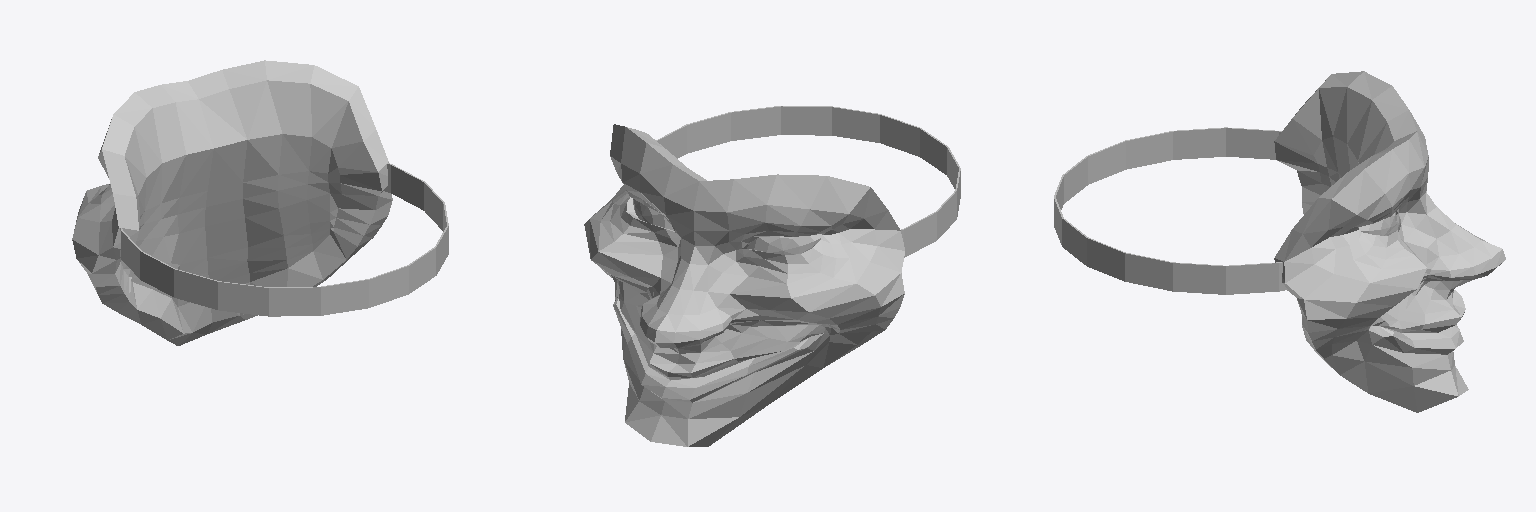
File: trollmask.obj
The picture shows the model from 3 angles: view 1: azimuth 30°, elevation 25°; view 2: azimuth 150°, elevation 25°; view 3: azimuth 270°, elevation 25°; orthographic projection.
Visible parts, largest first — view 1: trollmask; view 2: trollmask; view 3: trollmask.
Boxes of the visible parts, box(x1,y1,x2,y2) form: trollmask: box(72, 60, 448, 345); trollmask: box(584, 106, 960, 446); trollmask: box(1054, 71, 1505, 412).
Size of the model in its own units: 1.33 by 1.17 by 1.73.